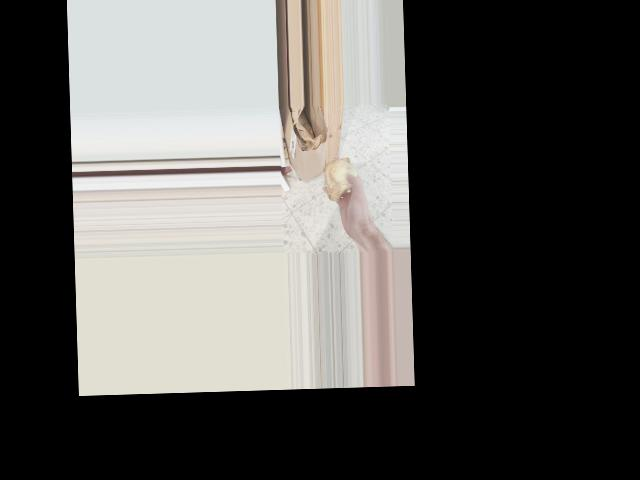onion: (321, 155, 358, 205)
